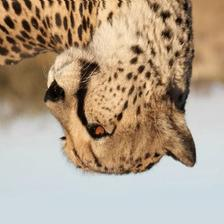Cheetha: (0, 0, 197, 175)
